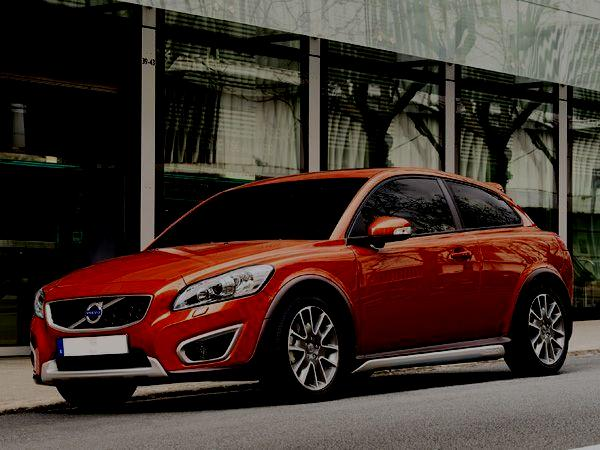volvo: (80, 294, 111, 334)
